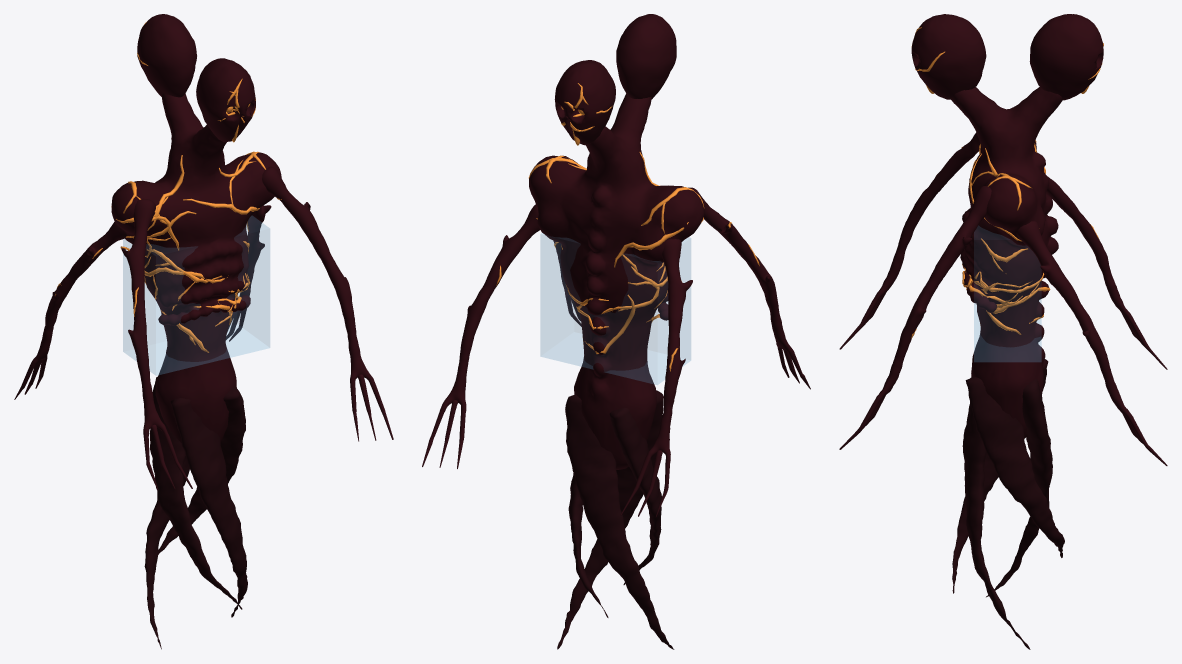
The model's file is GeriDonen.fbx.
The picture shows the model from 3 angles, left to right: view 1: azimuth 30°, elevation 25°; view 2: azimuth 150°, elevation 25°; view 3: azimuth 270°, elevation 25°; orthographic projection. The views are drawn at different scales.
Visible parts, largest first — view 1: Govde, Root, Kuyruk3, Kol1, Kol2, BasArka, Catlaklar, BasOn, Kuyruk2, Kol4, Kuyruk4, Kuyruk1 (+1 smaller); view 2: Govde, Root, Kuyruk1, BasOn, Kol4, Kol3, BasArka, Catlaklar, Kol2, Kuyruk2, Kuyruk3, Kuyruk4; view 3: Govde, Root, Kuyruk4, BasArka, BasOn, Kol1, Kol3, Kuyruk3, Kuyruk1, Kol2, Catlaklar, Kol4 (+1 smaller).
Boxes of the visible parts, bbox=[...] form: Govde: bbox=[111, 93, 281, 455]; Root: bbox=[123, 216, 269, 375]; Kuyruk3: bbox=[170, 398, 247, 617]; Kol1: bbox=[262, 166, 393, 441]; Kol2: bbox=[121, 198, 192, 490]; BasArka: bbox=[137, 14, 196, 97]; Catlaklar: bbox=[55, 22, 281, 352]; BasOn: bbox=[196, 58, 255, 142]; Kuyruk2: bbox=[149, 376, 242, 609]; Kol4: bbox=[14, 222, 126, 399]; Kuyruk4: bbox=[158, 386, 245, 554]; Kuyruk1: bbox=[144, 455, 189, 649]; Govde: bbox=[529, 94, 704, 469]; Root: bbox=[540, 233, 690, 384]; Kuyruk1: bbox=[565, 394, 674, 649]; BasOn: bbox=[616, 14, 676, 99]; Kol4: bbox=[620, 239, 692, 517]; Kol3: bbox=[422, 204, 539, 468]; BasArka: bbox=[554, 60, 615, 145]; Catlaklar: bbox=[496, 83, 759, 371]; Kol2: bbox=[688, 187, 810, 389]; Kuyruk2: bbox=[609, 407, 661, 584]; Kuyruk3: bbox=[557, 390, 663, 649]; Kuyruk4: bbox=[568, 473, 608, 617]; Govde: bbox=[951, 87, 1062, 438]; Root: bbox=[974, 226, 1041, 361]; Kuyruk4: bbox=[965, 376, 1064, 557]; BasArka: bbox=[1029, 14, 1103, 100]; BasOn: bbox=[911, 14, 986, 99]; Kol1: bbox=[839, 186, 991, 449]; Kol3: bbox=[1016, 221, 1167, 465]; Kuyruk3: bbox=[962, 401, 1030, 649]; Kuyruk1: bbox=[986, 379, 1052, 597]; Kol2: bbox=[839, 132, 980, 349]; Catlaklar: bbox=[911, 27, 1103, 338]; Kol4: bbox=[1046, 175, 1167, 369].
Size of the model in its own units: 4.09 by 10 by 4.87.
